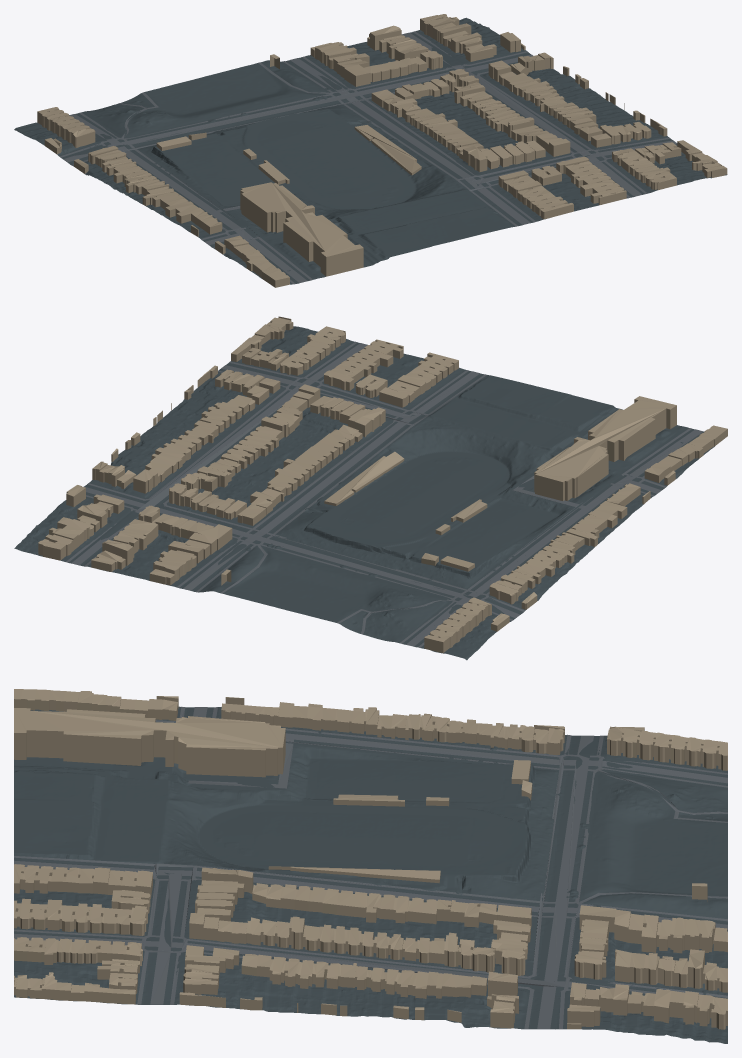
Rendered from epsg26910-1421-10879.lod0.glb.
The picture shows the model from 3 angles, top to bottom: view 1: azimuth 30°, elevation 25°; view 2: azimuth 150°, elevation 25°; view 3: azimuth 270°, elevation 25°; orthographic projection. The views are drawn at different scales.
Parts seen in each view (by area): view 1: epsg26910-1421-10879-lod0; view 2: epsg26910-1421-10879-lod0; view 3: epsg26910-1421-10879-lod0.
Boxes of the visible parts, <box> form: epsg26910-1421-10879-lod0: <box>14,14,727,287</box>; epsg26910-1421-10879-lod0: <box>14,316,727,660</box>; epsg26910-1421-10879-lod0: <box>14,689,727,1043</box>.
Size of the model in its own units: 384 by 42.03 by 384.
